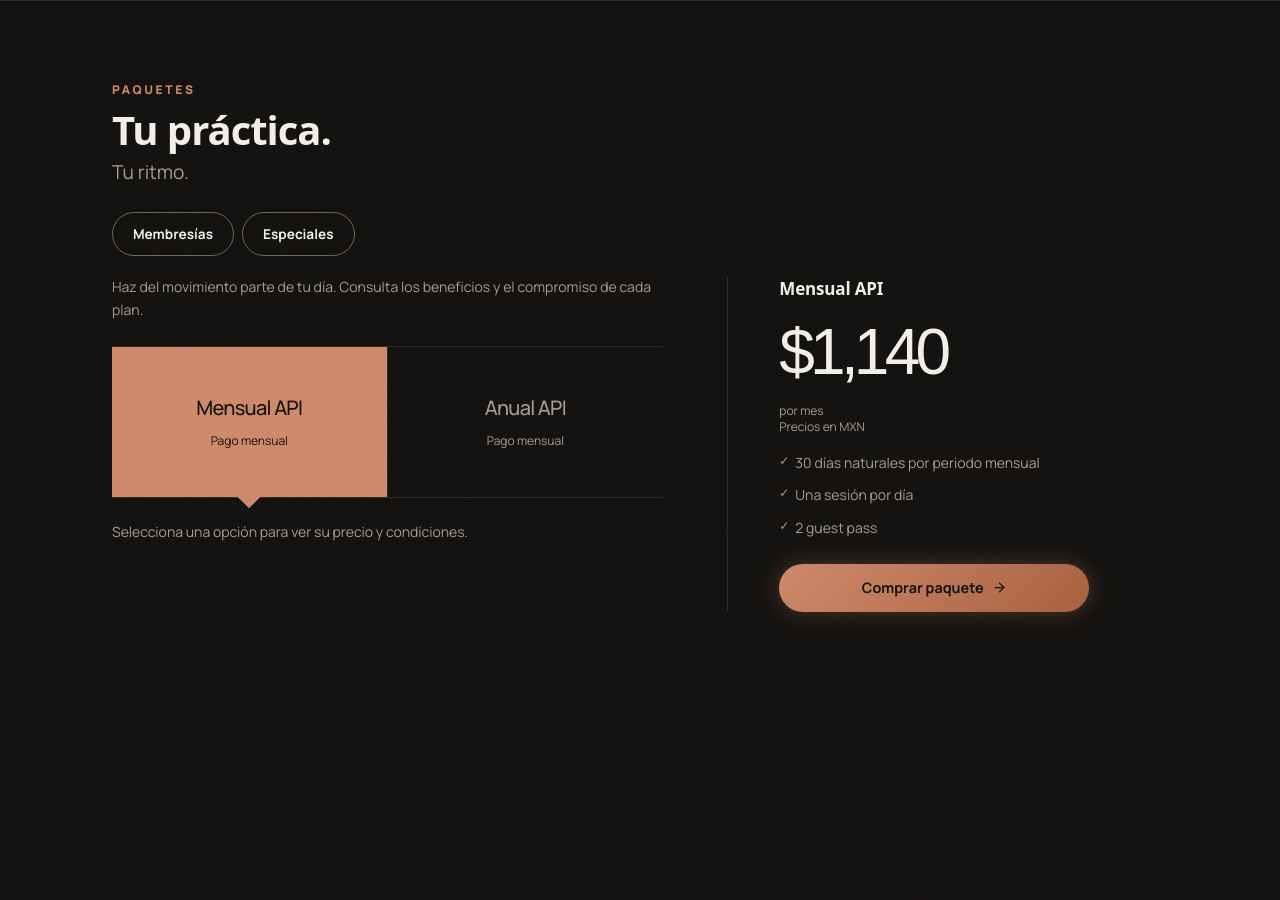
Test: selector dinámico de planes › permite elegir cada membresía y especial manteniendo todas sus condiciones
Click the button "Anual API Pago mensual".
click(525, 422)  # box [388,347,663,497]
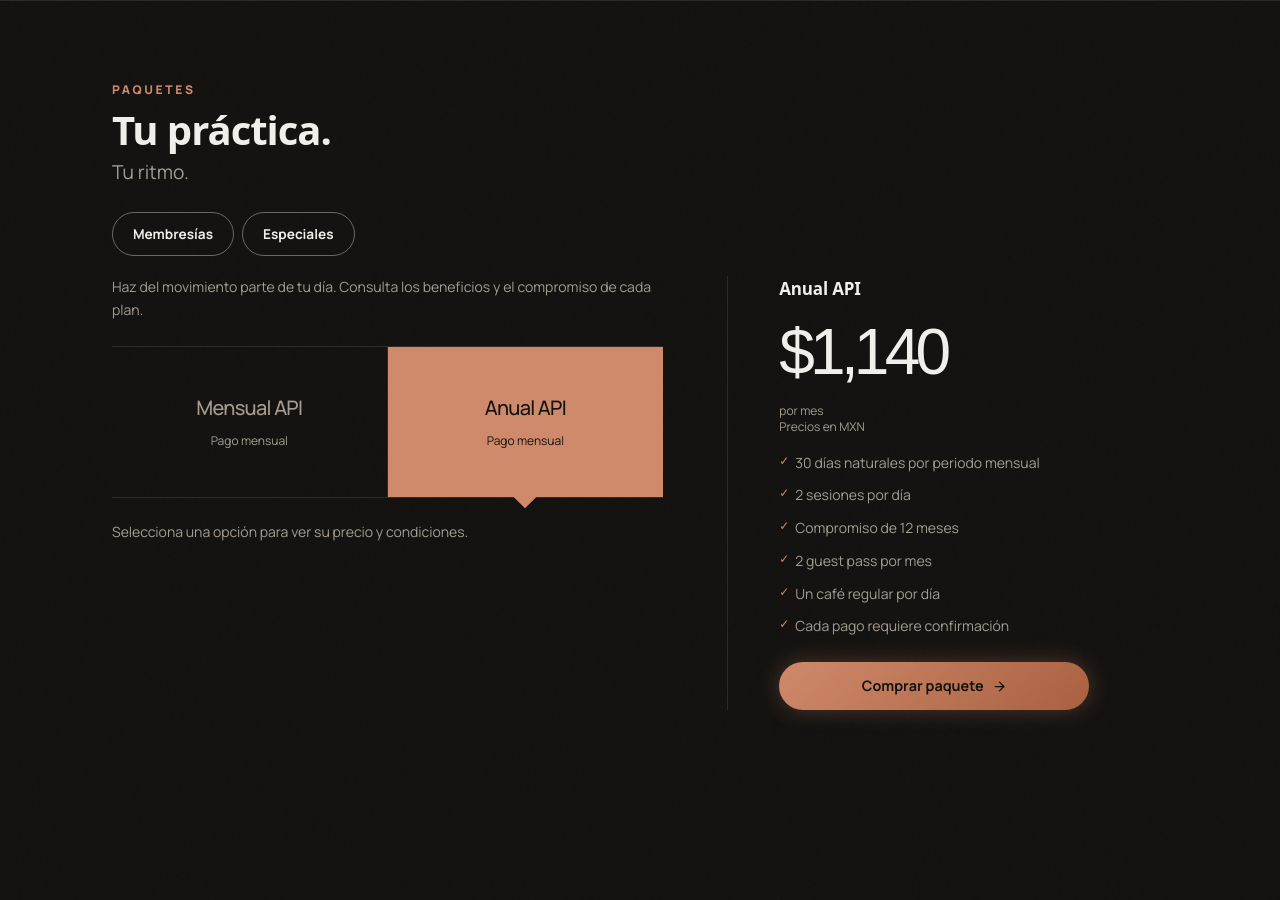
Result: the list item "2 sesiones por día" is shown at [795,485,911,504]
Result: the list item "Compromiso de 12 meses" is shown at [795,518,959,537]
Result: the list item "2 guest pass por mes" is shown at [795,551,932,570]
Click the button "Especiales".
click(298, 234)  # box [242,212,354,256]
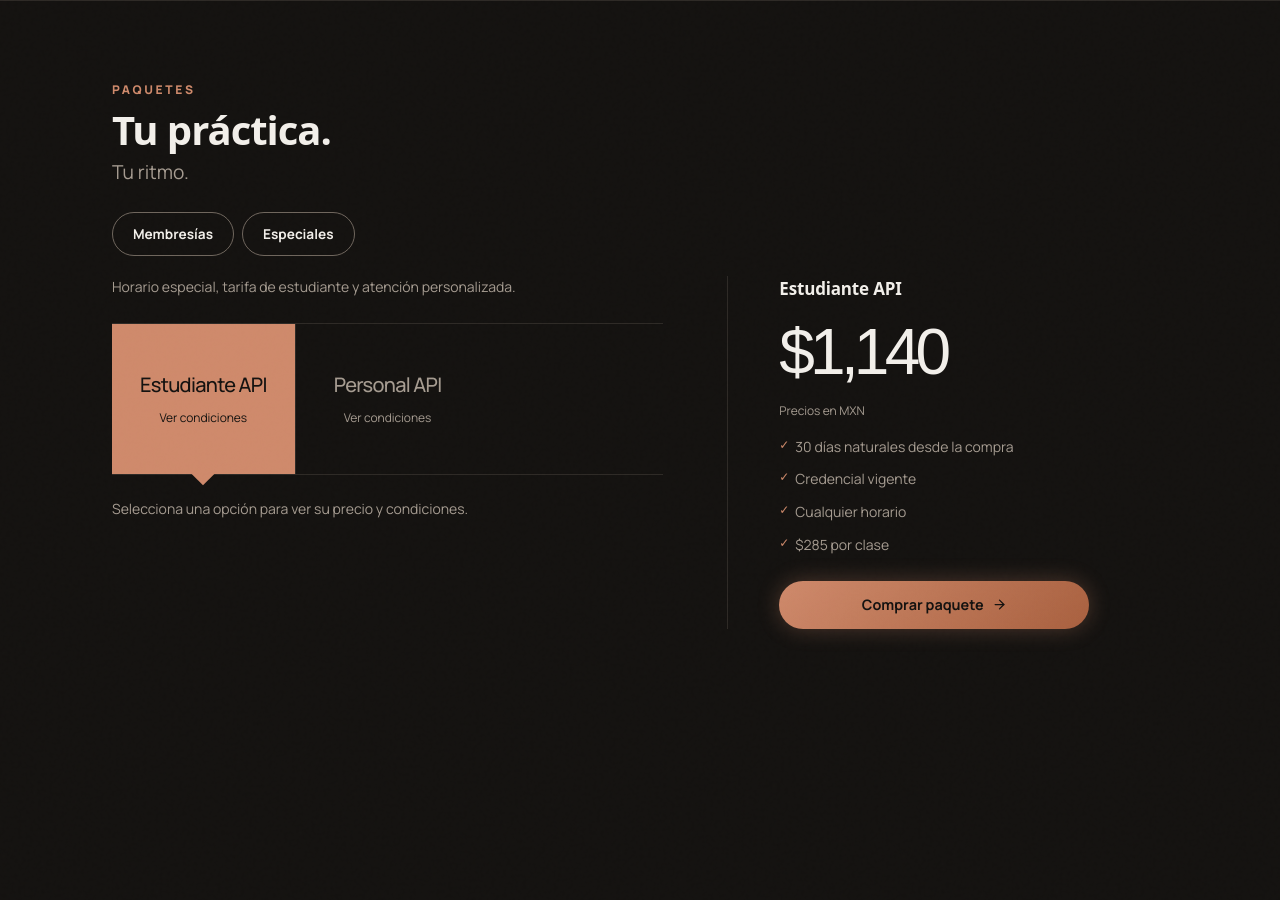
Result: the list item "Credencial vigente" is shown at [795,469,916,488]
Result: the list item "Cualquier horario" is shown at [795,502,906,521]
Click the button "Personal API Ver condiciones".
click(388, 399)  # box [296,324,479,474]
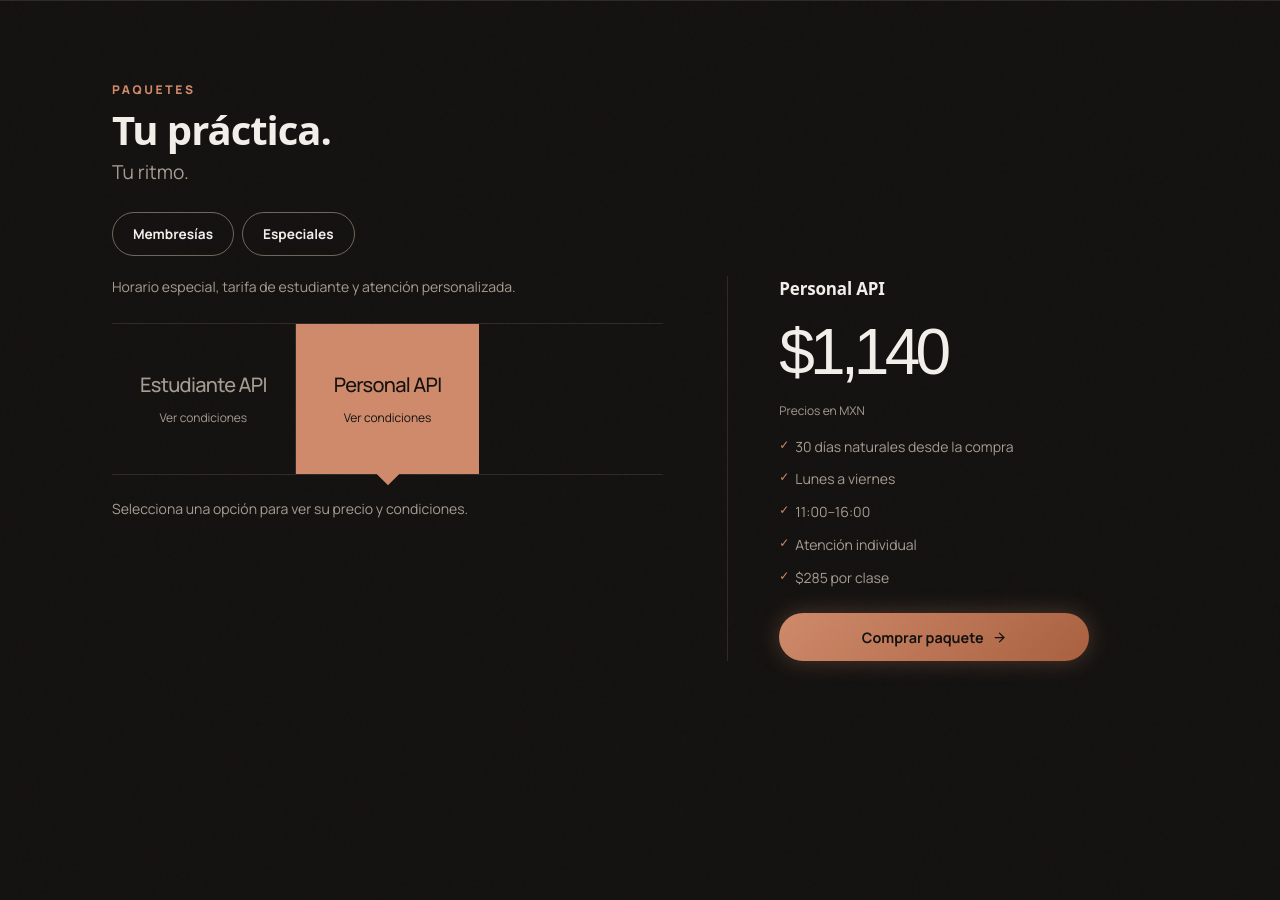
Result: the list item "Lunes a viernes" is shown at [795,469,895,488]
Result: the list item "11:00–16:00" is shown at [795,502,870,521]
Result: the list item "Atención individual" is shown at [795,535,917,554]
